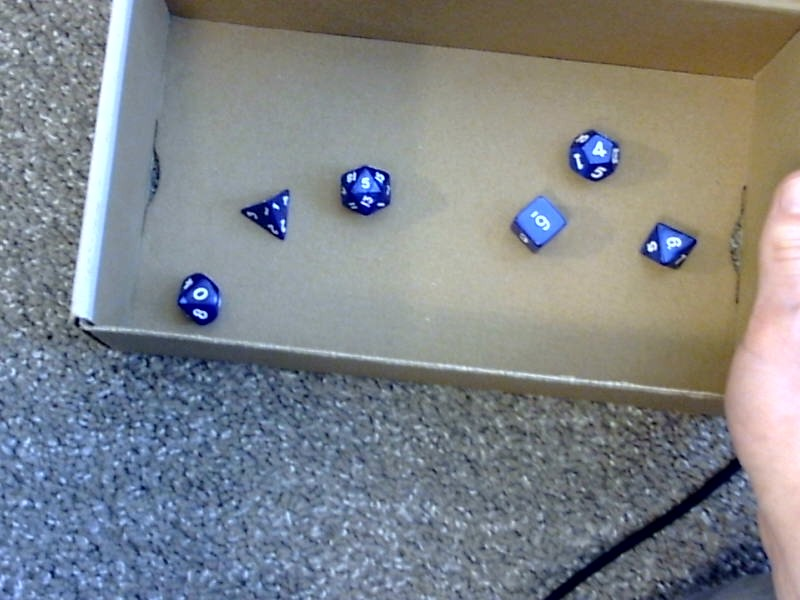d10 10: (173, 267, 223, 328)
d12 4: (566, 124, 621, 184)
d20 5: (338, 162, 394, 216)
d4 1: (237, 186, 292, 242)
d6 6: (509, 193, 565, 256)
d8 6: (639, 219, 696, 271)
